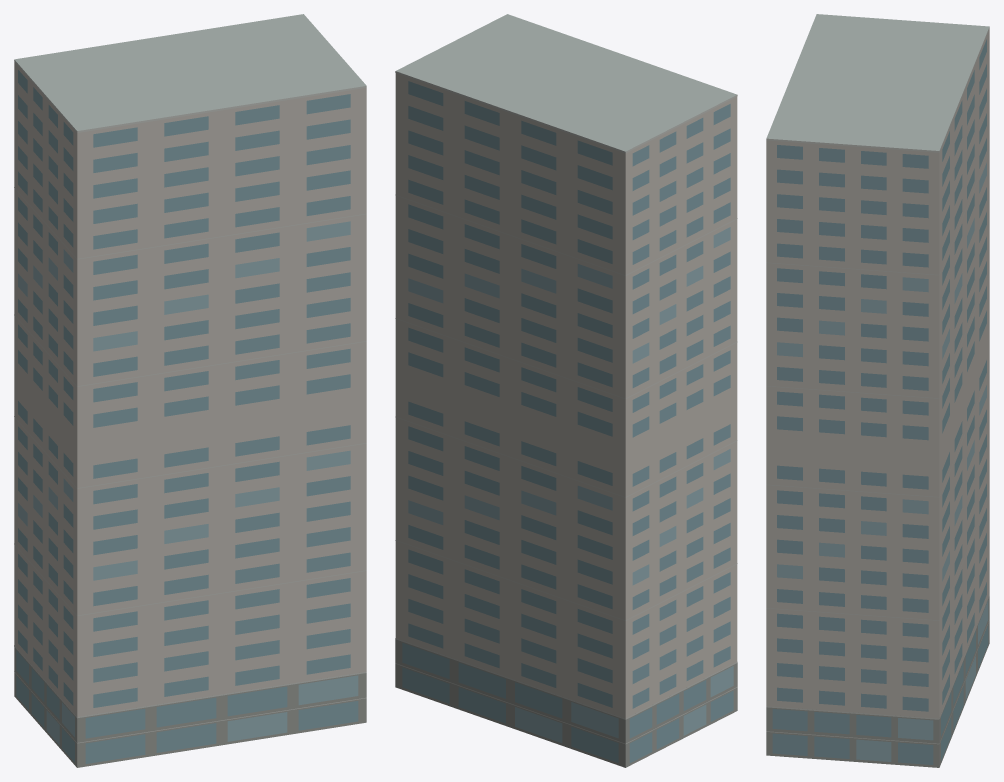
File: residential-d6420520-5b2d-4c84-8ed0-1b2fc1227f2b.glb
3 views of the same model, side by side, from view 1: azimuth 30°, elevation 25°; view 2: azimuth 150°, elevation 25°; view 3: azimuth 270°, elevation 25° (orthographic). The views are drawn at different scales.
Parts seen in each view (by area): view 1: residential-d6420520-5b2d-4c84-8ed0-1b2fc1227f2b.tmp; view 2: residential-d6420520-5b2d-4c84-8ed0-1b2fc1227f2b.tmp; view 3: residential-d6420520-5b2d-4c84-8ed0-1b2fc1227f2b.tmp.
Part boxes in pixels (bbox=[...]): residential-d6420520-5b2d-4c84-8ed0-1b2fc1227f2b.tmp: bbox=[14, 14, 366, 767]; residential-d6420520-5b2d-4c84-8ed0-1b2fc1227f2b.tmp: bbox=[395, 14, 737, 767]; residential-d6420520-5b2d-4c84-8ed0-1b2fc1227f2b.tmp: bbox=[766, 14, 989, 767].
Size of the model in its own units: 39.58 by 83 by 27.26.
